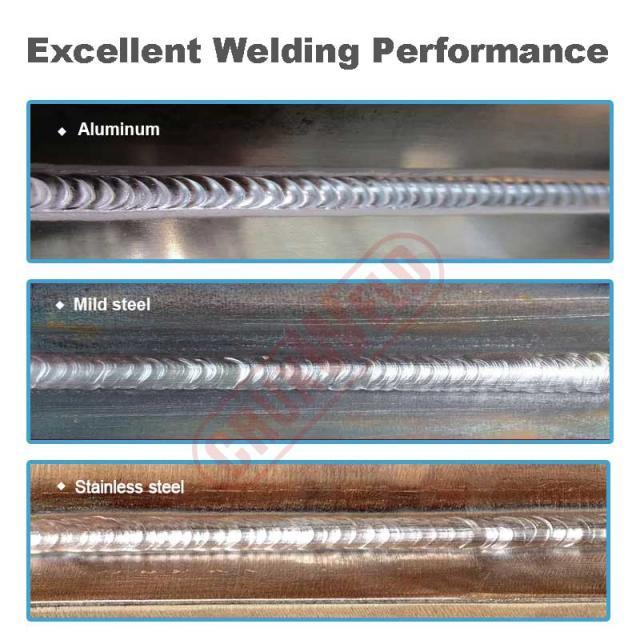Good Weld: (28, 165, 610, 216), (26, 352, 609, 391), (29, 519, 602, 549)
